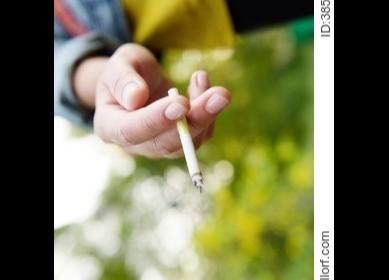Cigarette: (166, 86, 202, 190)
